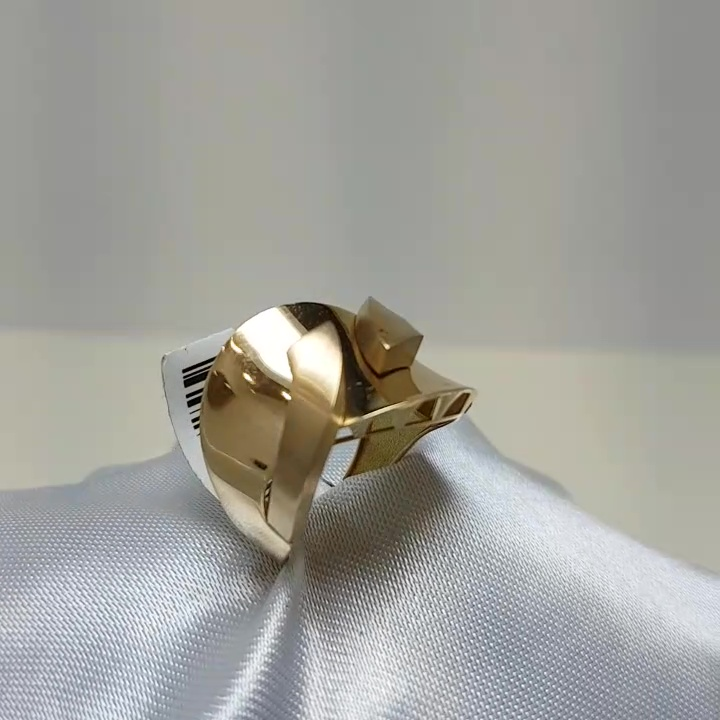Ring 4: (145, 280, 477, 537)
